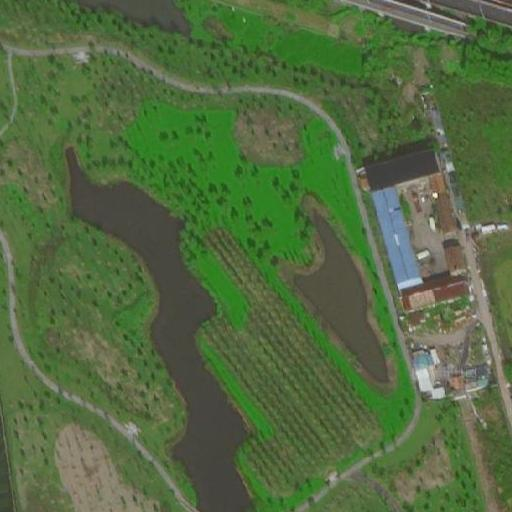building: (374, 186, 424, 287), (364, 145, 444, 192), (398, 270, 469, 309), (409, 344, 448, 398), (431, 170, 462, 234), (454, 359, 493, 390), (443, 240, 467, 274)
